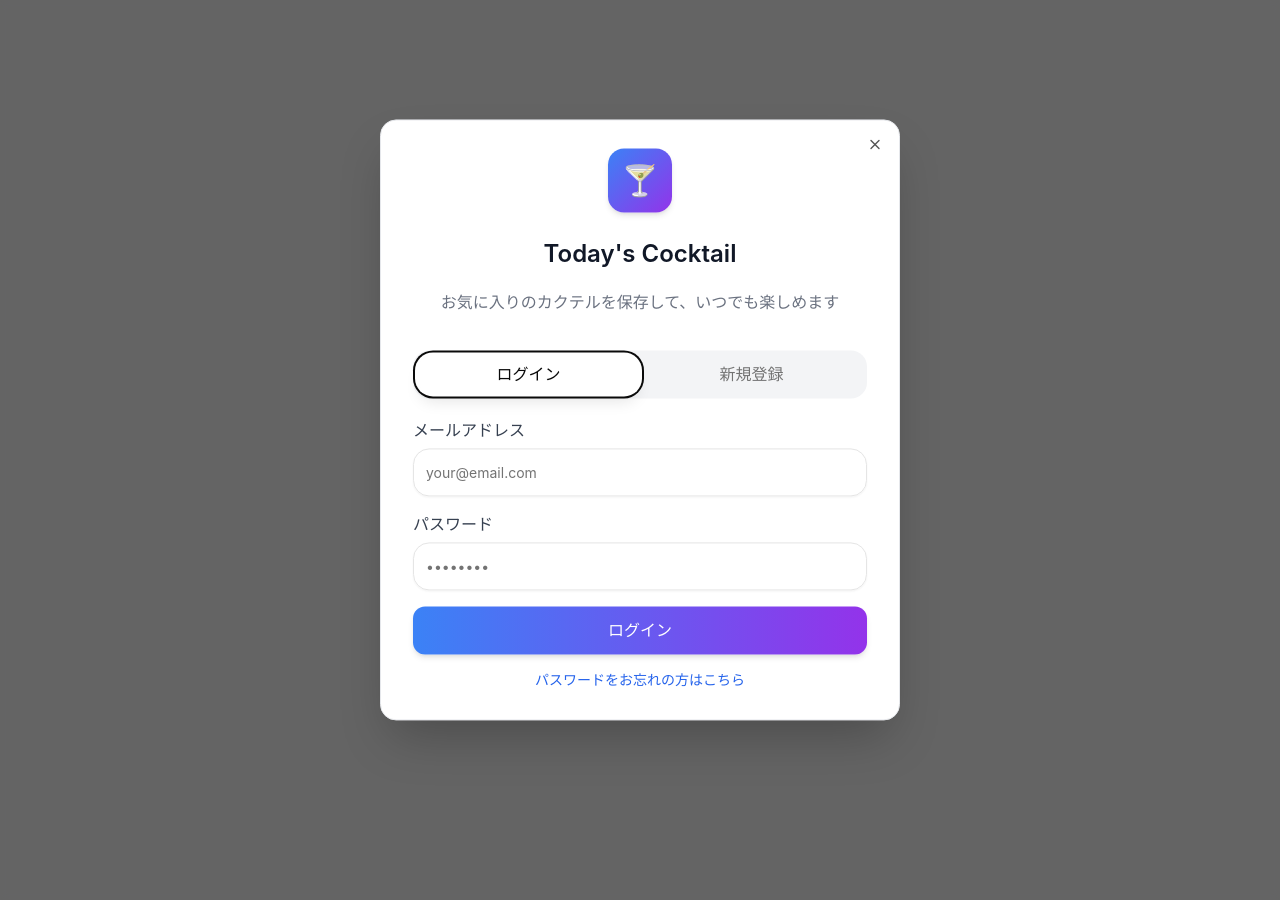
AuthDialog › shows signup error messages from the API
Click the tab "新規登録".
click(752, 374)  # box [640,354,863,394]
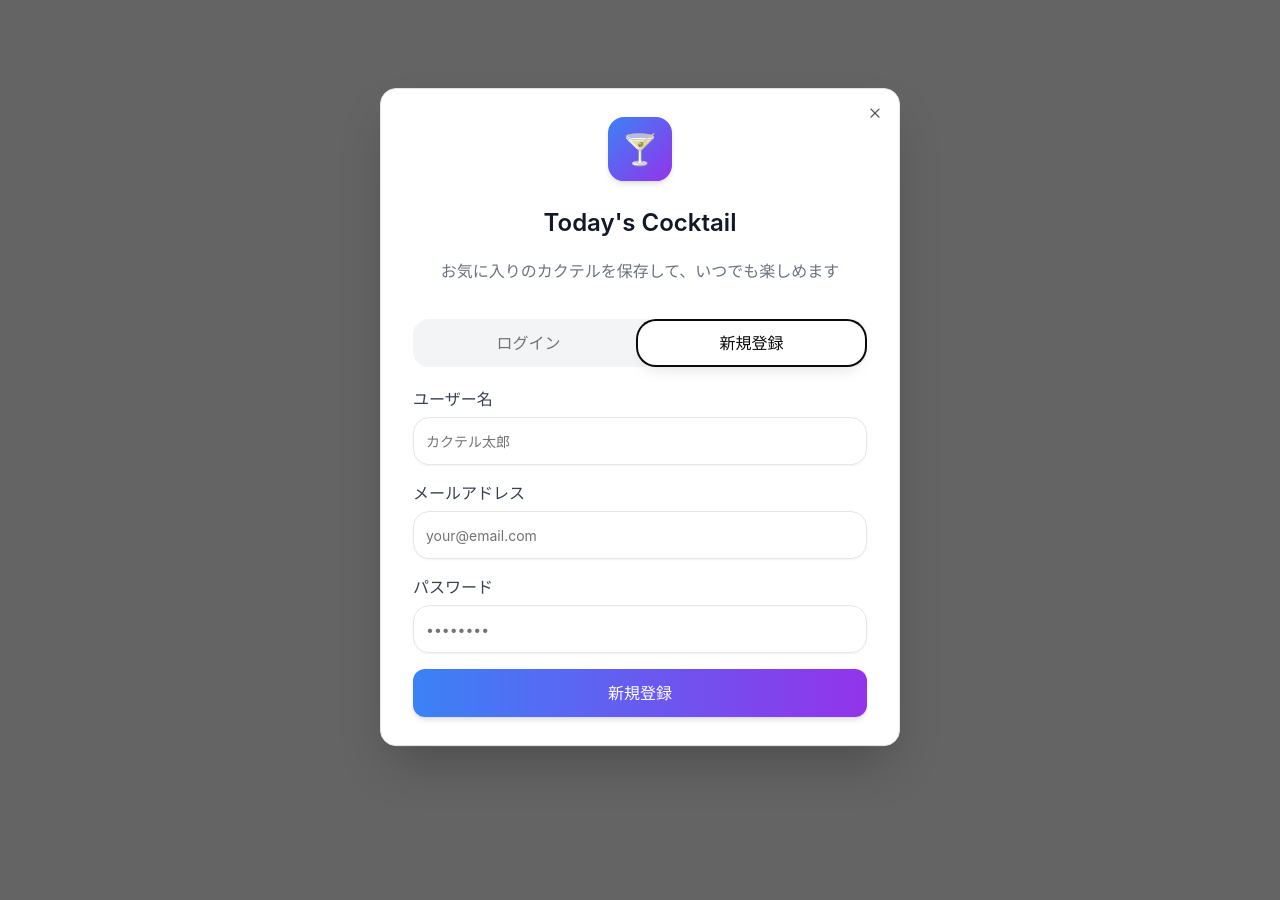
Type "Tester" into the field labelled "ユーザー名".
click(640, 441); type("Tester")  # box [413,417,867,465]
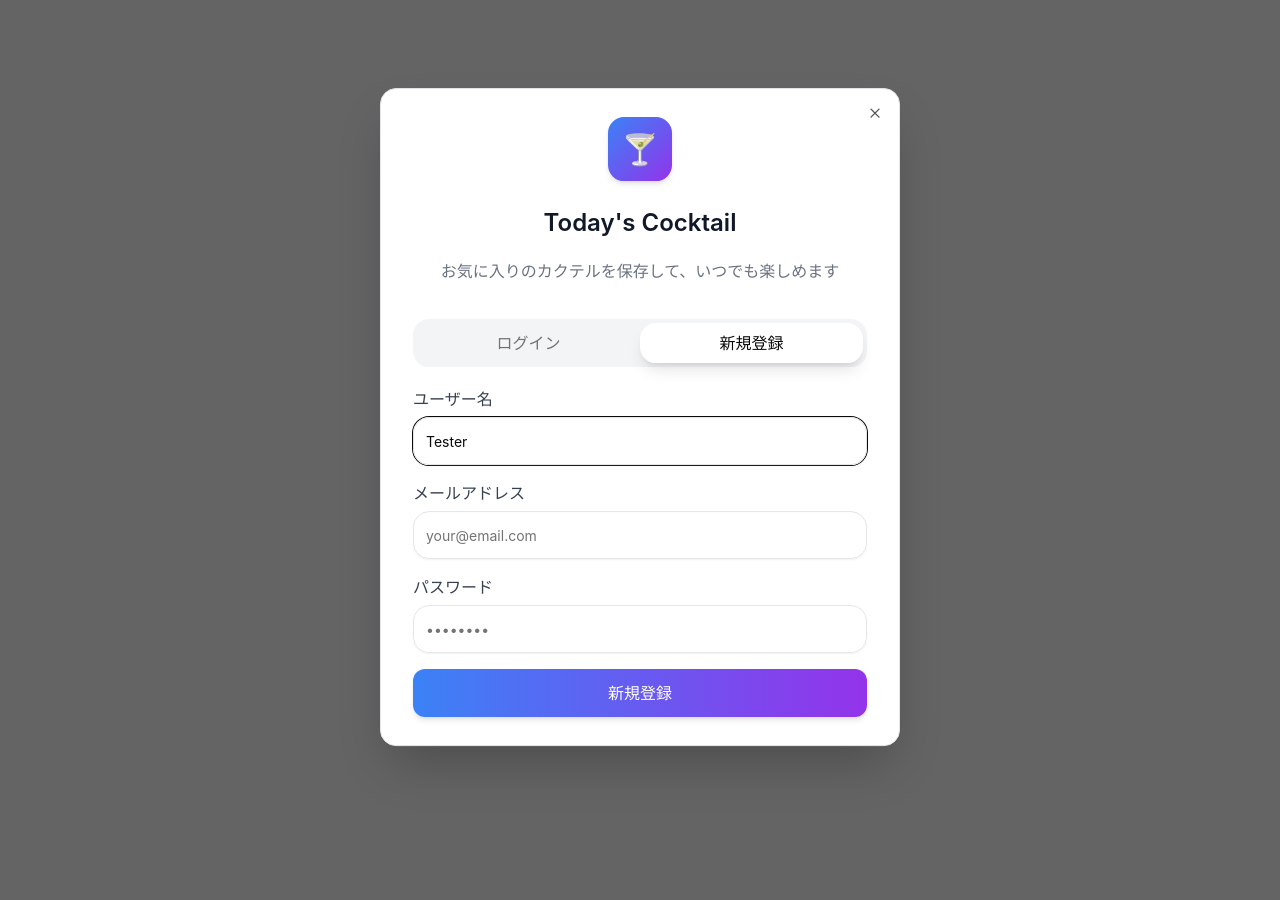
Type "signup@example.com" into the field labelled "メールアドレス".
click(640, 535); type("signup@example.com")  # box [413,511,867,559]
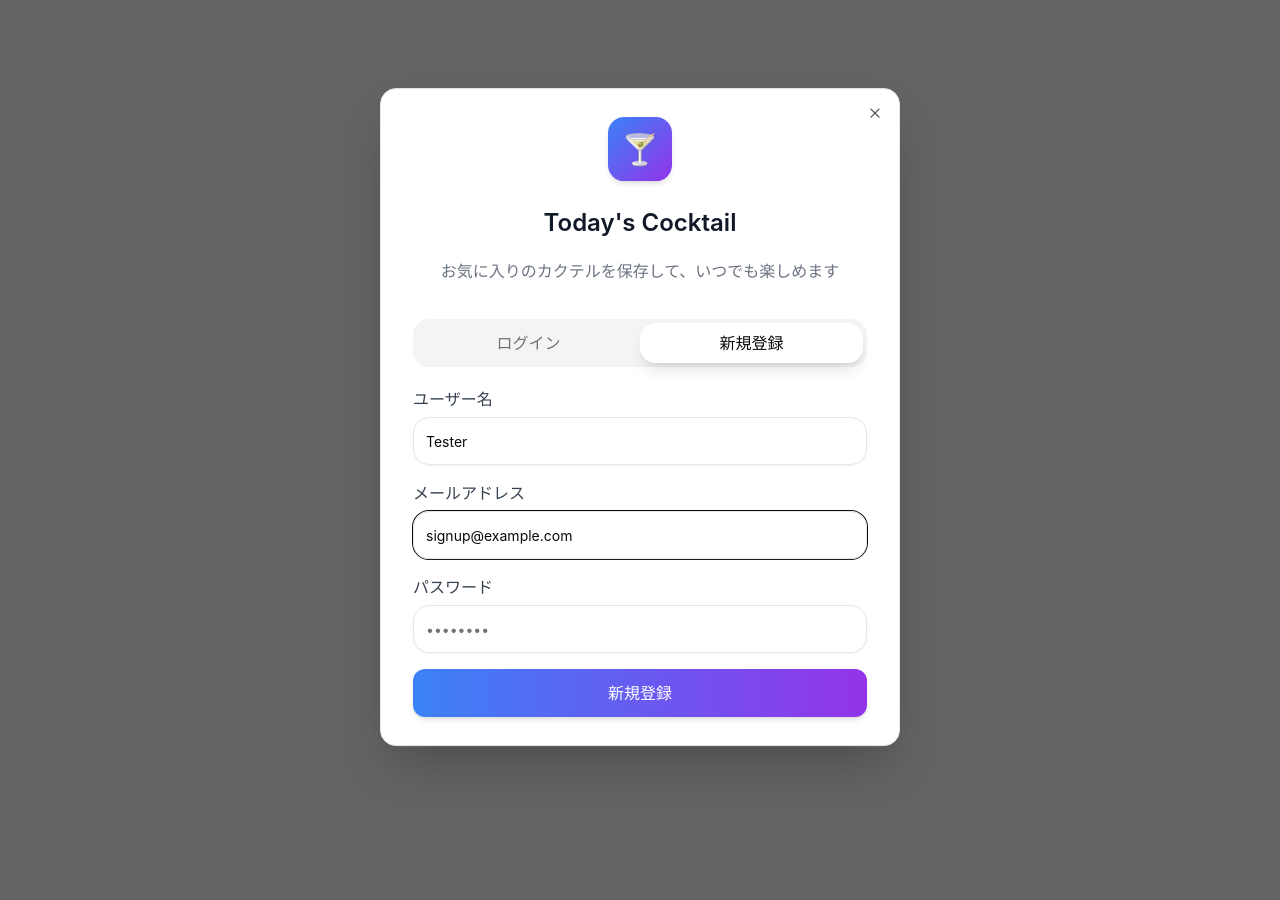
Type "supersafe" into the password field labelled "パスワード".
click(640, 629); type("supersafe")  # box [413,605,867,653]
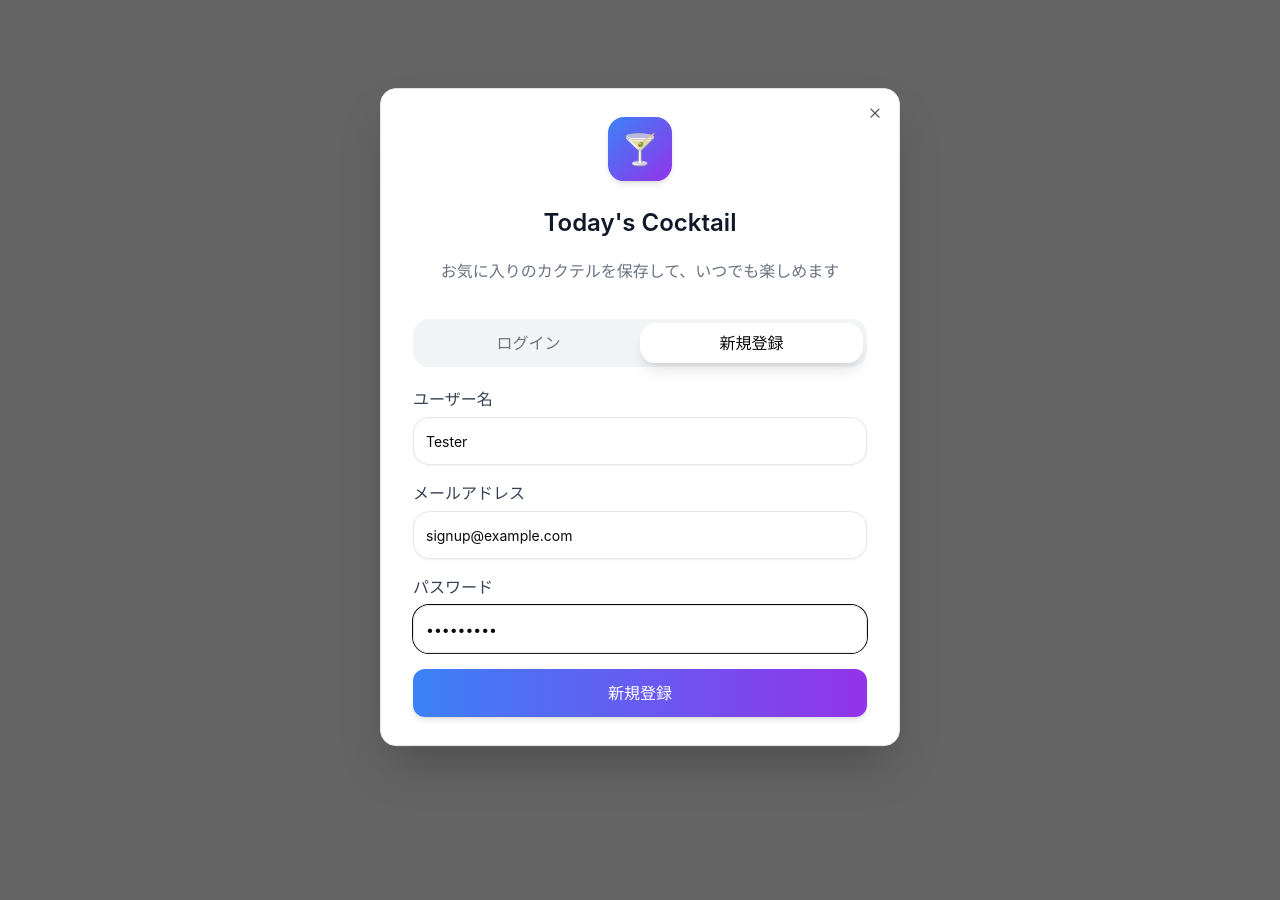
Click the button "新規登録".
click(640, 693)  # box [413,669,867,717]
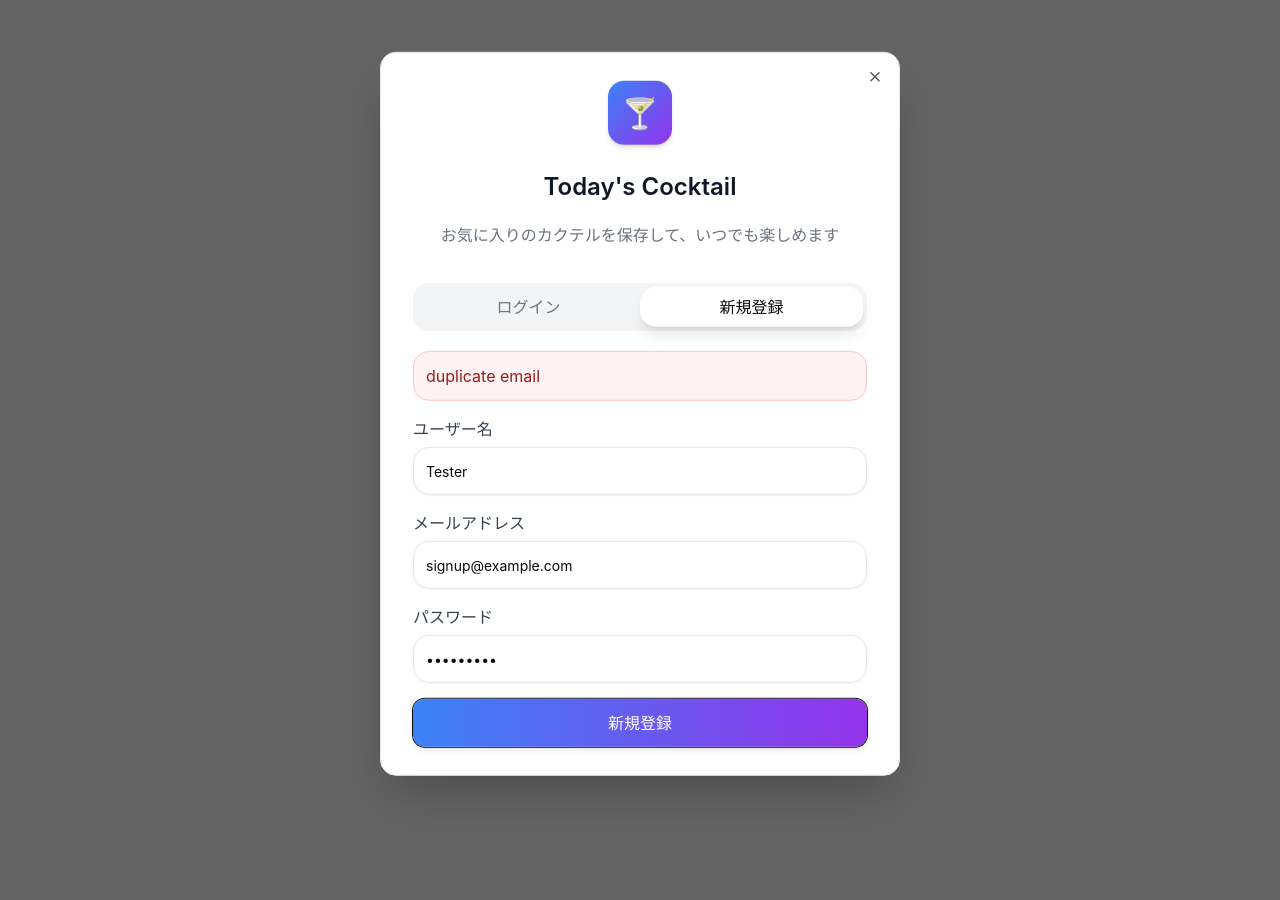
Expected: the text "duplicate email" is shown, [413,351,867,401]
